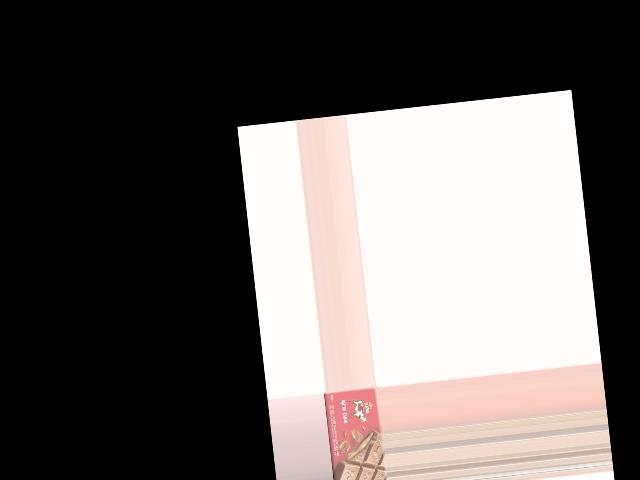chocolate: (324, 385, 389, 480)
